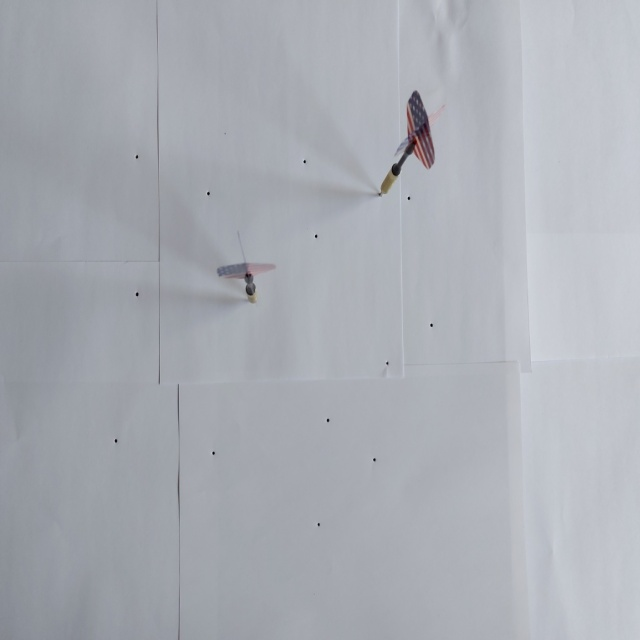Dart: (374, 83, 455, 204), (212, 228, 280, 311)
